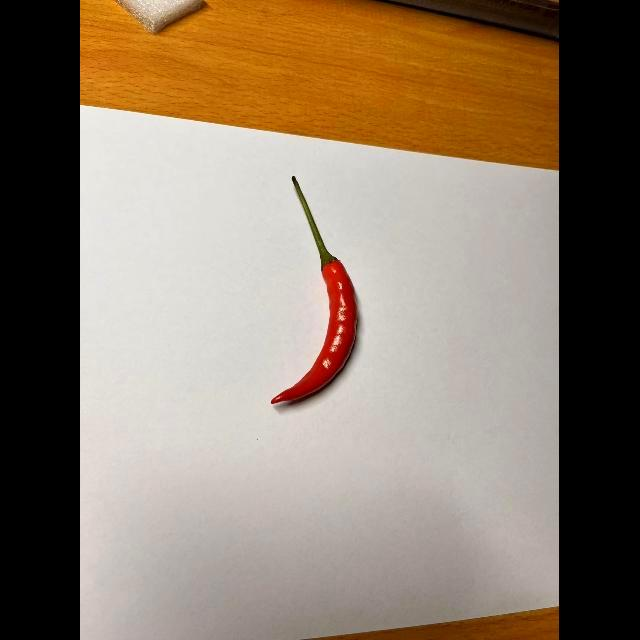chili_pepper: (255, 172, 364, 416)
